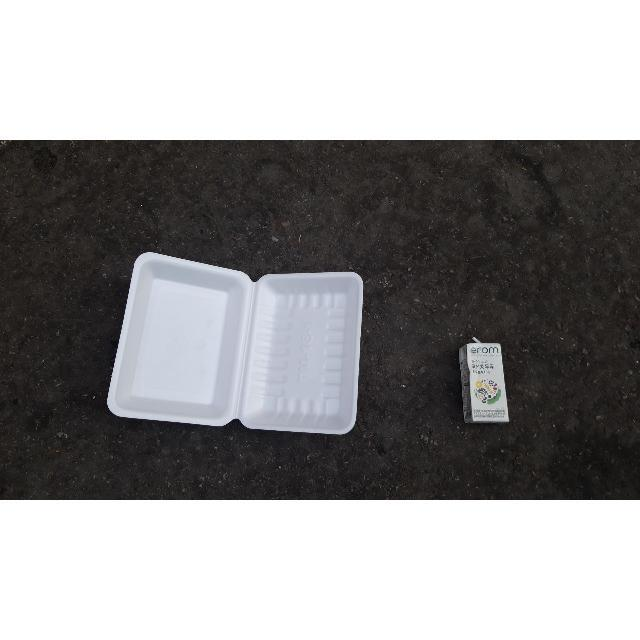Botella de plastico: (460, 342, 508, 422)
Recipiente plastico: (108, 252, 362, 433)
